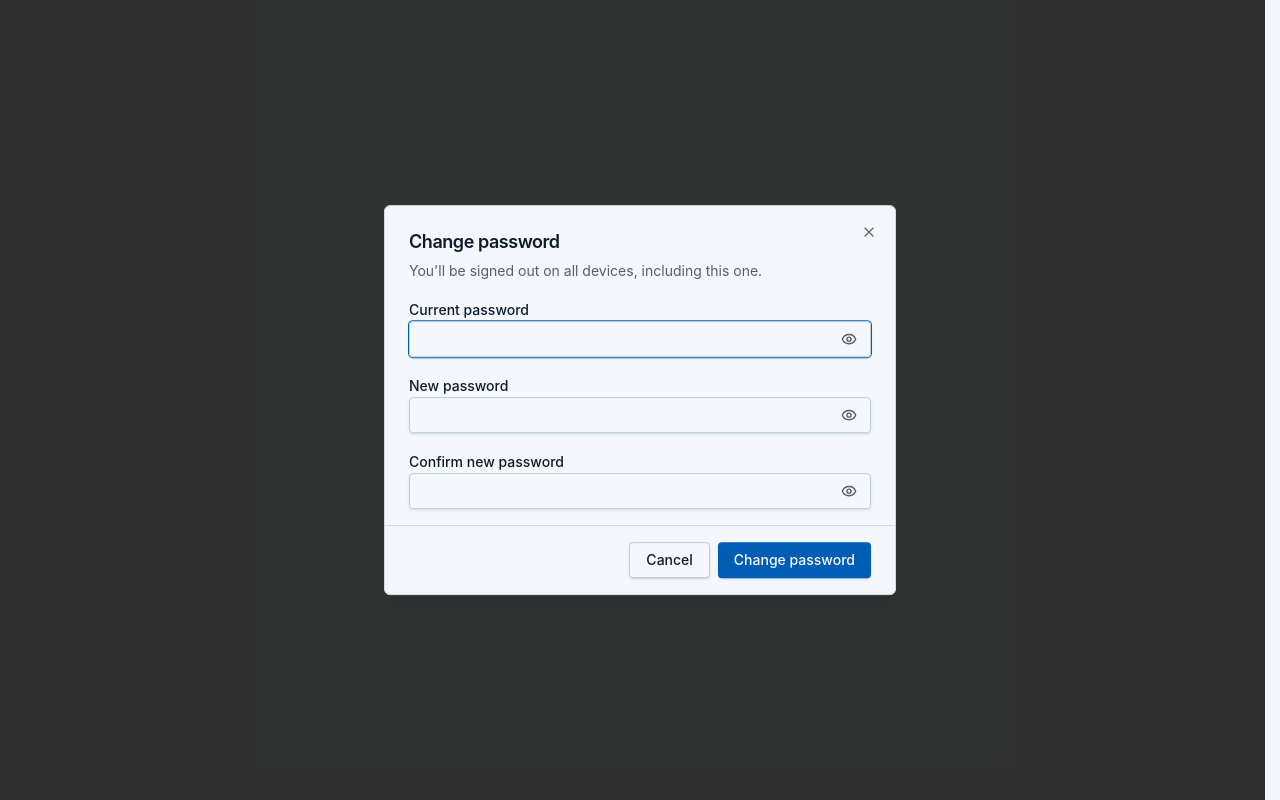
Scenario: ChangePasswordDialog › shows other server errors in a banner and stays open
Step 1. Type "Password123!" into the password field labelled "Current password" → {"x": 640, "y": 339}, box [409, 321, 871, 357]
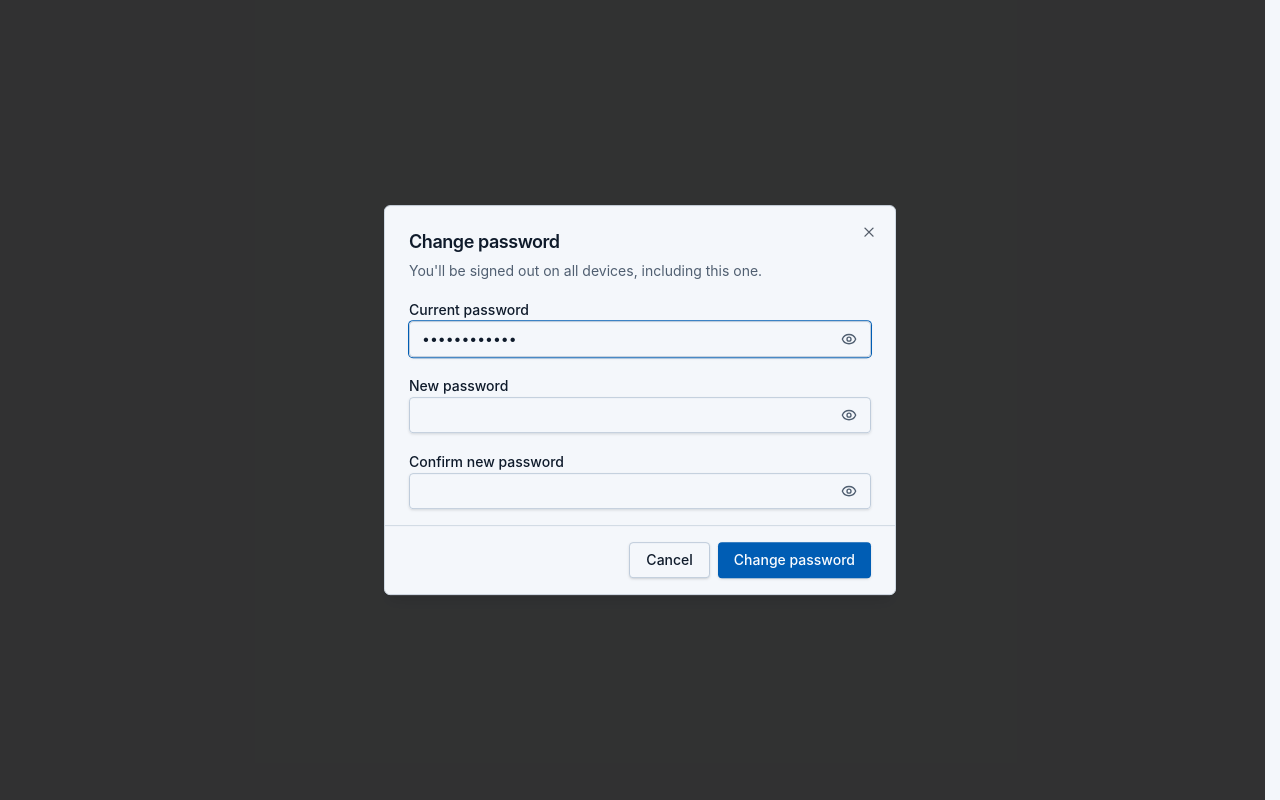
Step 2. Type "NewPassword1!" into the password field labelled "New password" → {"x": 640, "y": 415}, box [409, 397, 871, 433]
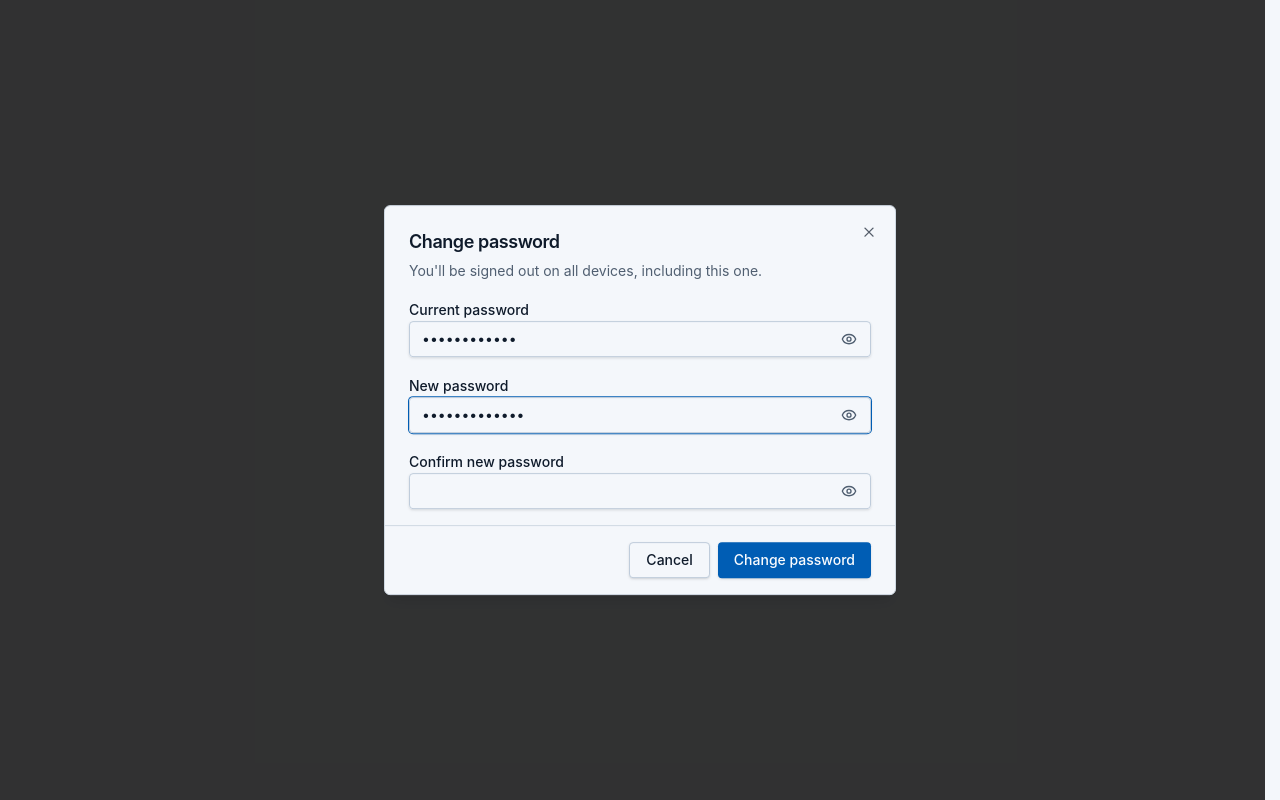
Step 3. Type "NewPassword1!" into the password field labelled "Confirm new password" → {"x": 640, "y": 491}, box [409, 473, 871, 509]
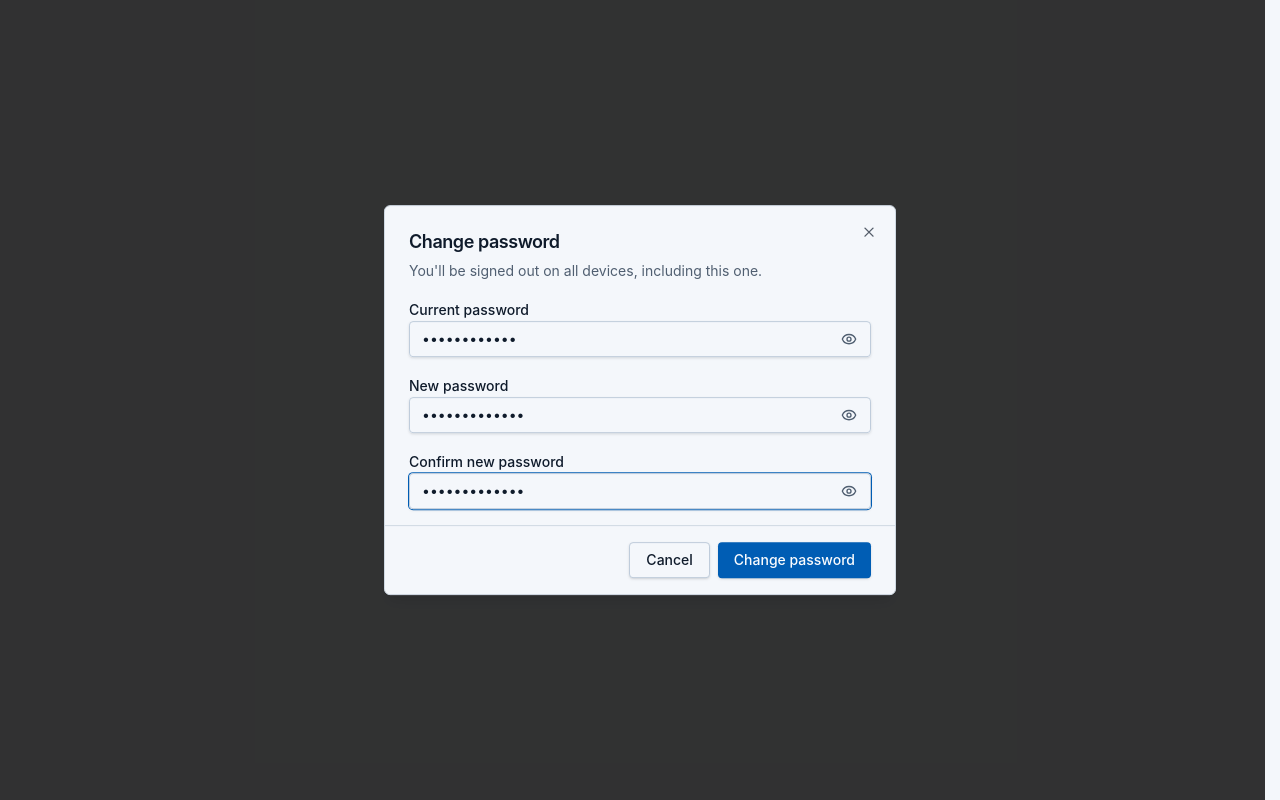
Step 4. Click the button "Change password" → {"x": 794, "y": 560}, box [718, 542, 871, 578]
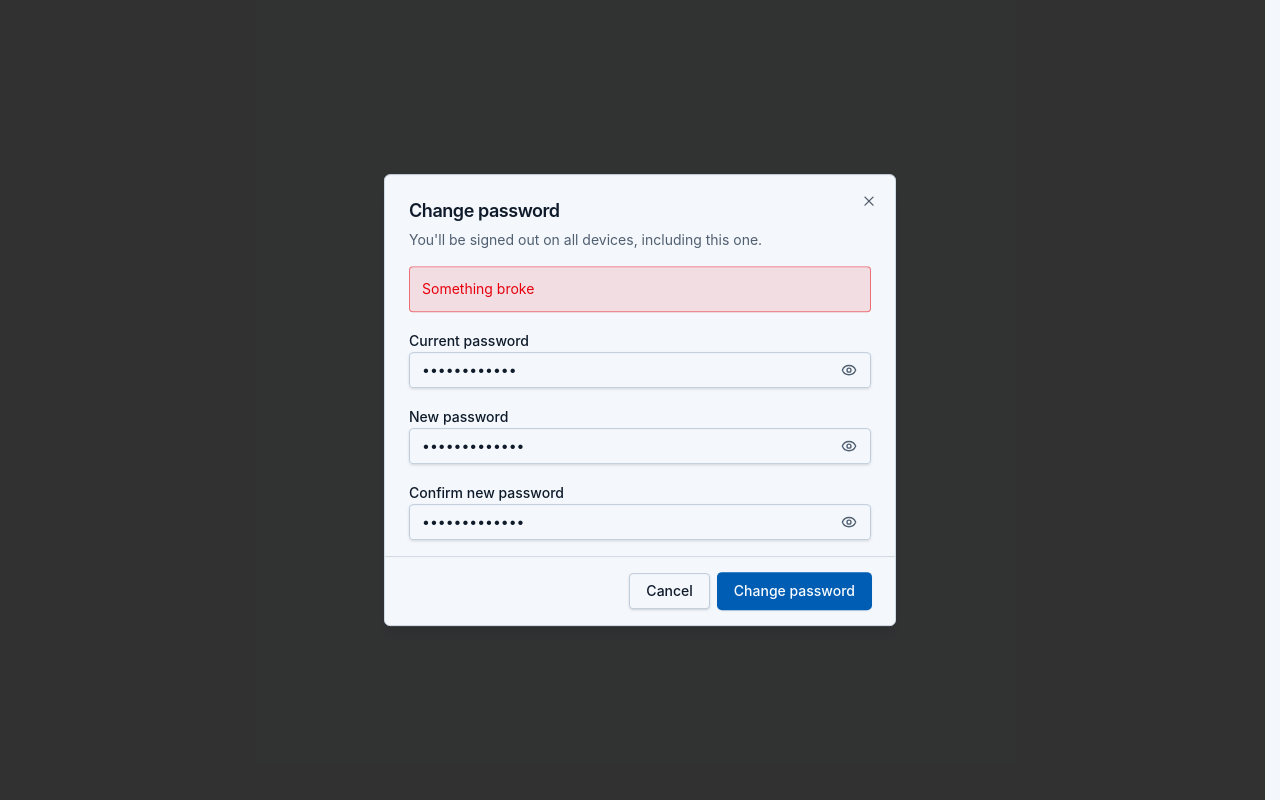
expect the message reads "Something broke": met, box [422, 280, 534, 297]
